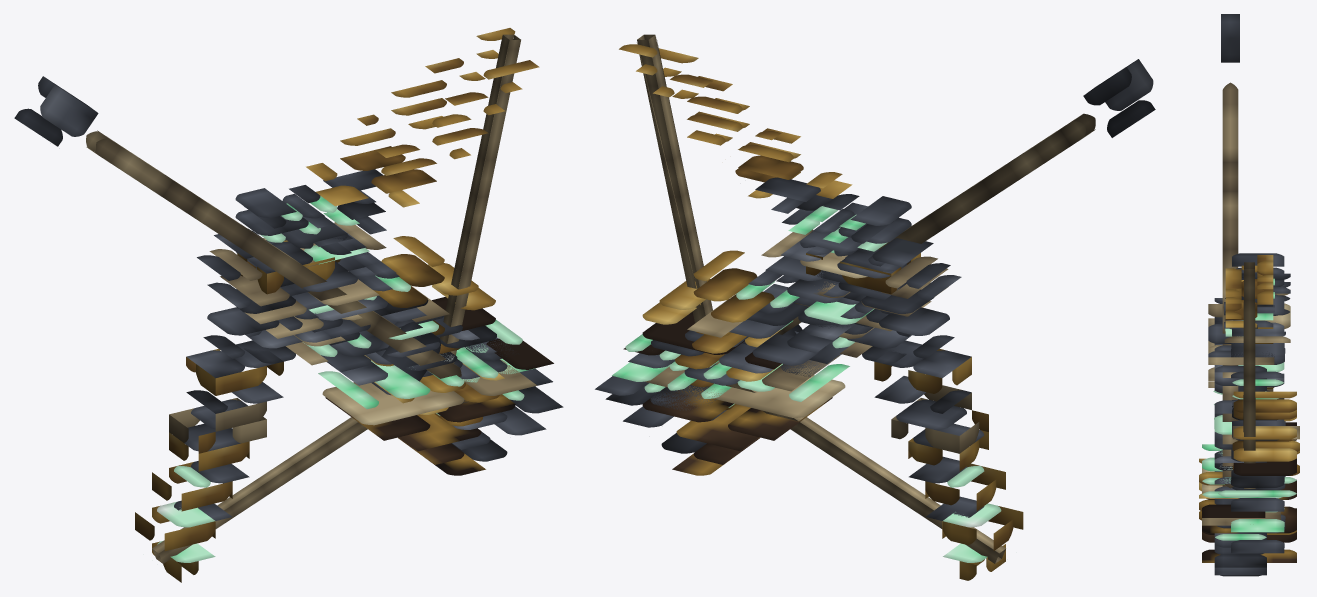
The model's file is steam_arbalest_pulling_2.obj.
3 views of the same model, side by side, from view 1: azimuth 30°, elevation 25°; view 2: azimuth 150°, elevation 25°; view 3: azimuth 270°, elevation 25° (orthographic). The views are drawn at different scales.
Visible parts, largest first — view 1: lit, fire; view 2: lit, fire; view 3: lit, fire.
Boxes of the visible parts, box(x1,y1,x2,y2) form: lit: box(14, 28, 563, 582); fire: box(364, 285, 504, 426); lit: box(595, 34, 1155, 580); fire: box(675, 299, 802, 410); lit: box(1202, 14, 1296, 576); fire: box(1199, 426, 1299, 520).
Bounding box in the file's own units: 0.9778 × 0.9314 × 0.2096.
